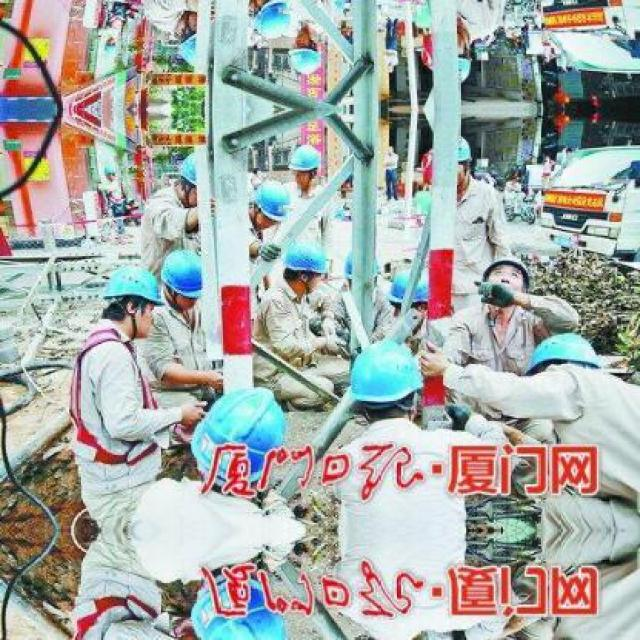helmet: (189, 379, 282, 489), (339, 327, 426, 407), (517, 320, 595, 380), (97, 258, 165, 322), (158, 240, 212, 306), (380, 253, 440, 310), (244, 172, 294, 224), (278, 233, 331, 282), (286, 142, 319, 180)
